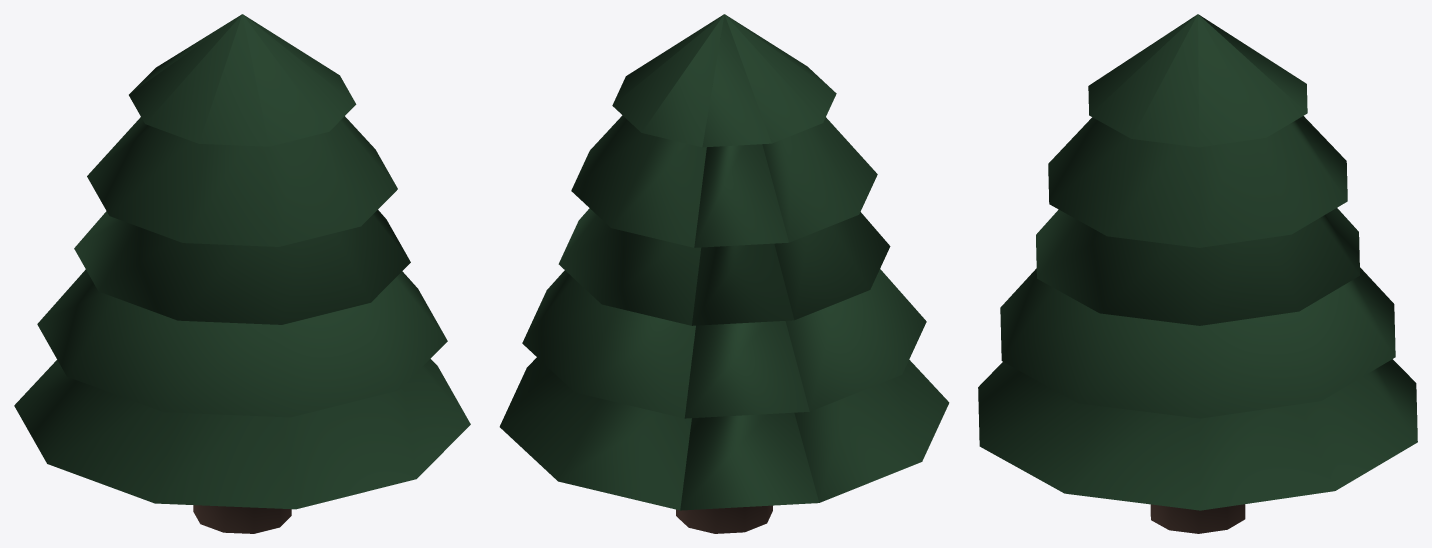
File: Pine1.fbx
The picture shows the model from 3 angles, left to right: view 1: azimuth 30°, elevation 25°; view 2: azimuth 150°, elevation 25°; view 3: azimuth 270°, elevation 25°; orthographic projection.
Parts seen in each view (by area): view 1: pCylinder1; view 2: pCylinder1; view 3: pCylinder1.
Part boxes in pixels (left/top/right/bottom): pCylinder1: left=14, top=14, right=470, bottom=533; pCylinder1: left=499, top=14, right=949, bottom=533; pCylinder1: left=978, top=14, right=1417, bottom=533.
Bounding box in the file's own units: 197 × 239 × 191.
Materials: 1 (1 with a texture image).
